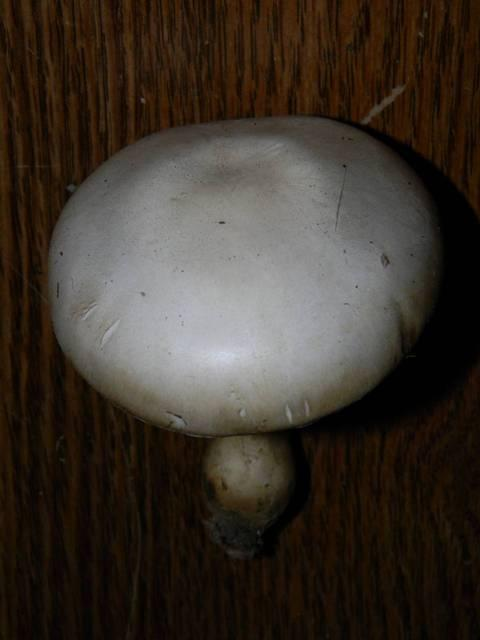Non-edible Mushroom: (45, 112, 444, 559)
